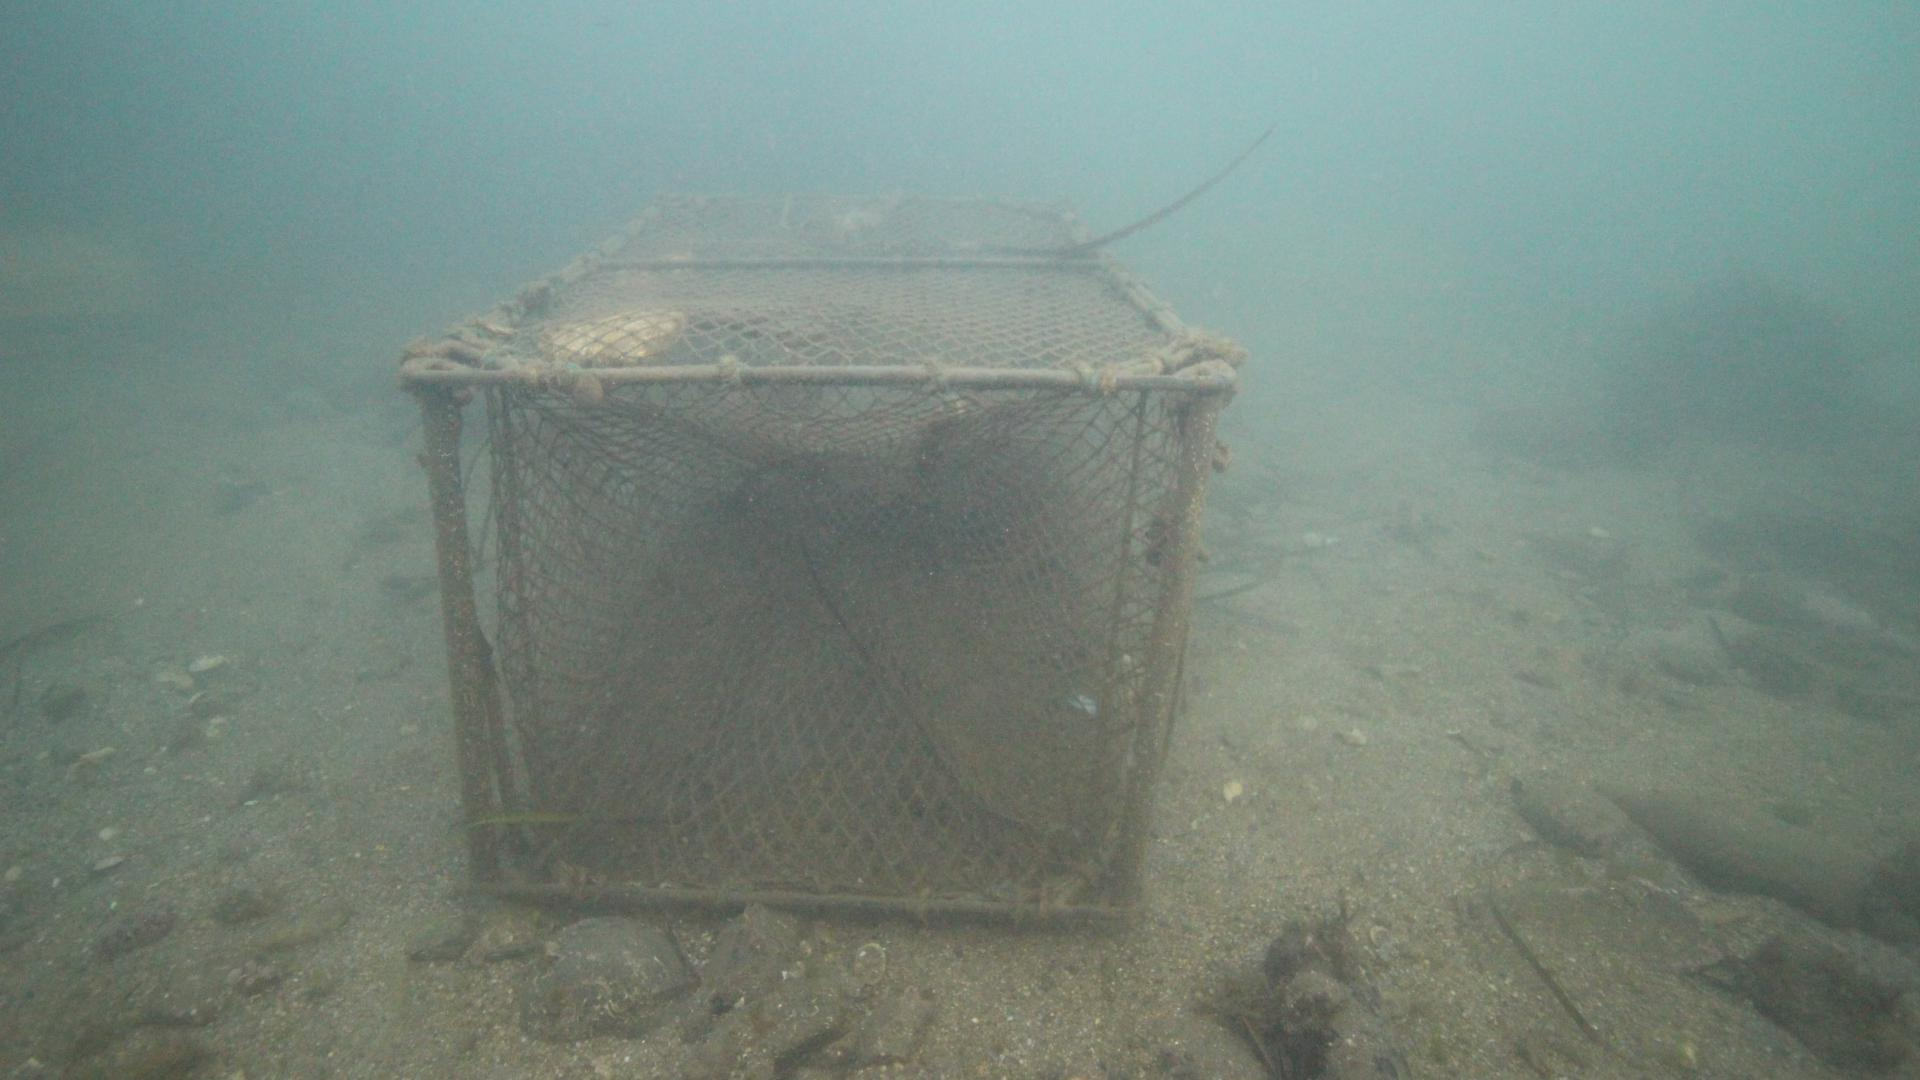rectangular fish trap: (394, 189, 1244, 923)
